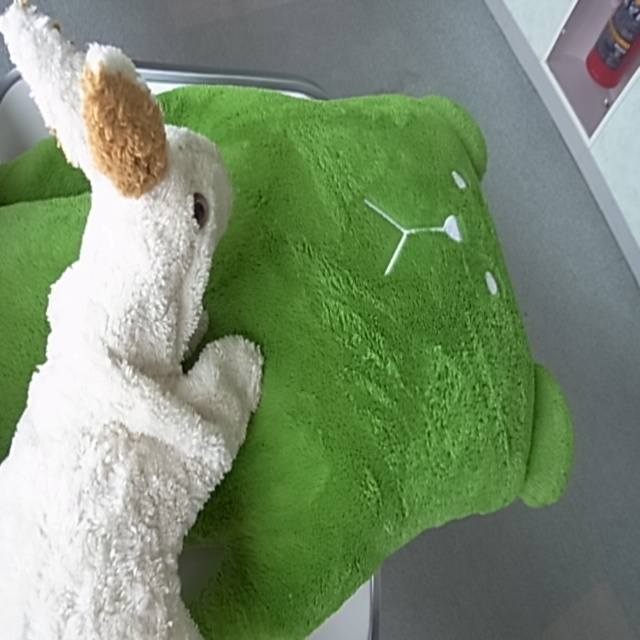Rabbit: (0, 0, 268, 639)
